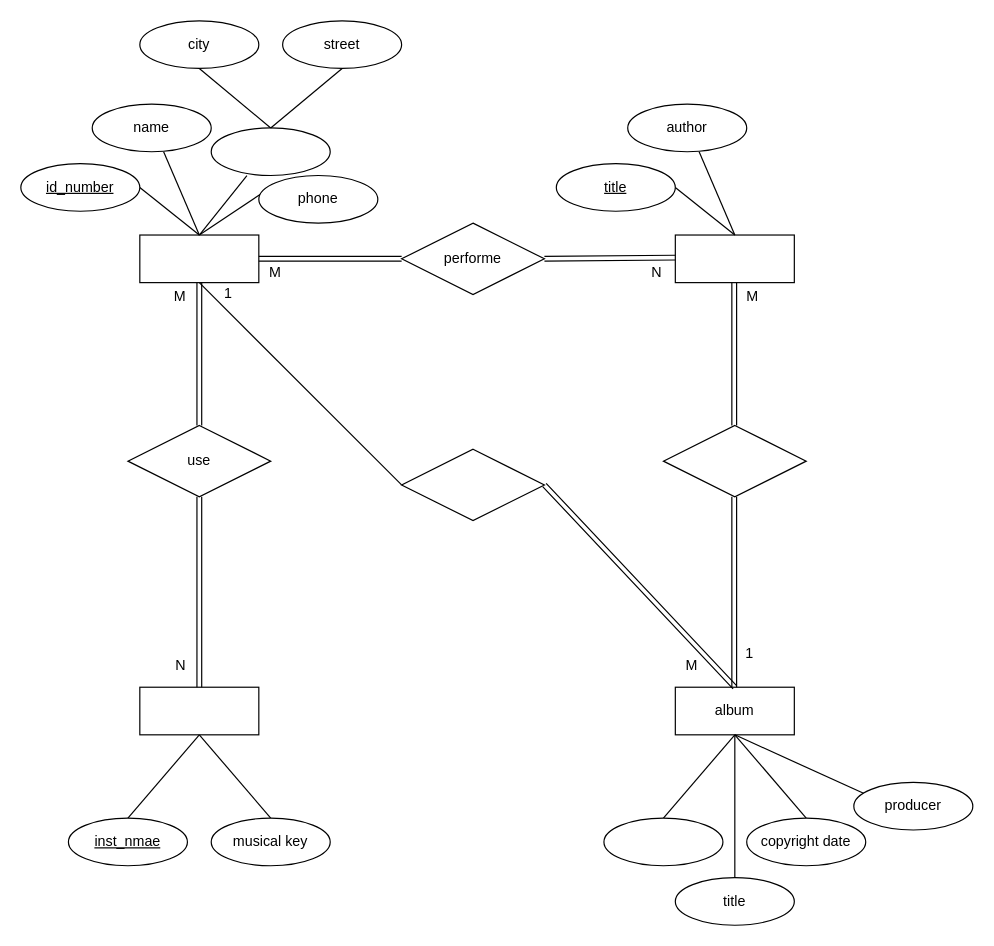
Some shapes in this 994 by 946 pixel diagram are drawn without their labels. Each missing label, with the centre of its shape:
"adress" belongs at pixel 270 151.
"has" belongs at pixel 734 460.
"identifier" belongs at pixel 663 841.
"instrument" belongs at pixel 199 710.
"musician" belongs at pixel 199 258.
"produce" belongs at pixel 472 484.
"song" belongs at pixel 734 258.
